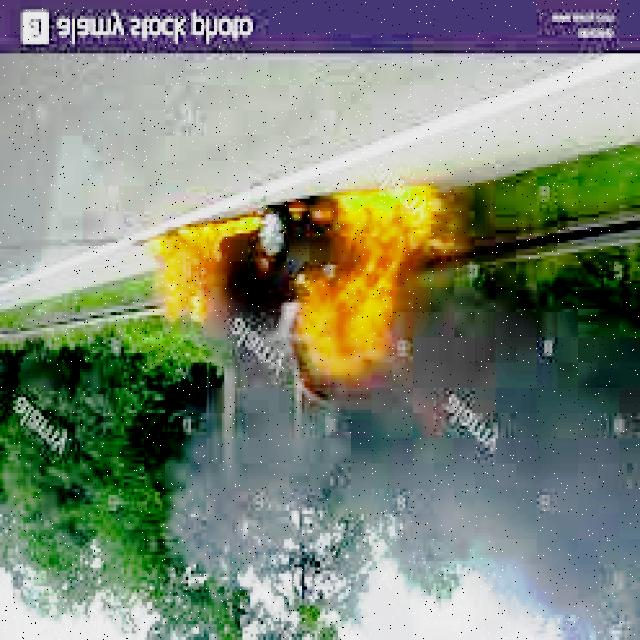api: (156, 175, 448, 395)
